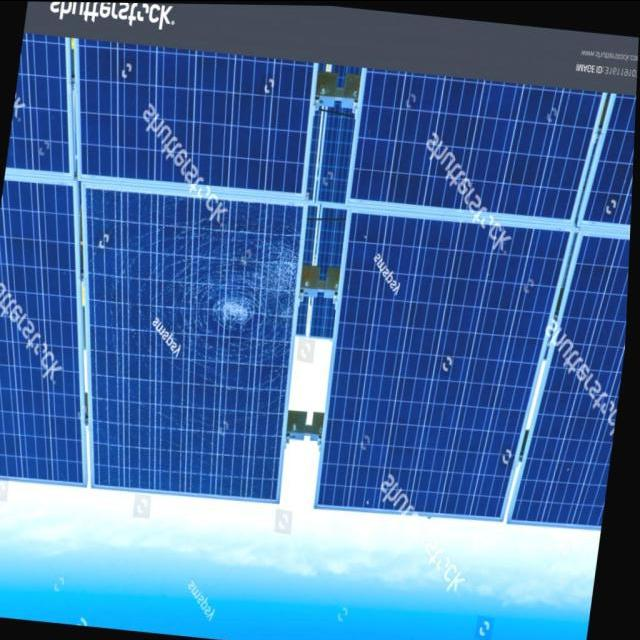cracked: (76, 186, 299, 512)
